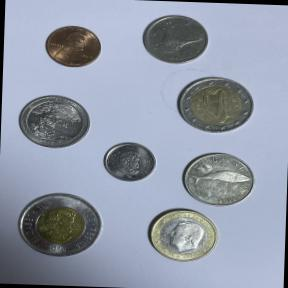1 Euro-B: (141, 206, 221, 264)
2 Euro-B: (171, 70, 258, 136)
Canada-10cent-B: (97, 134, 162, 188)
Canada-2Dollar-B: (8, 186, 105, 262)
Croatia-2Kune-B: (176, 145, 258, 210)
US-1cent-B: (39, 21, 107, 72)
US-25cent-B: (13, 90, 94, 151)
